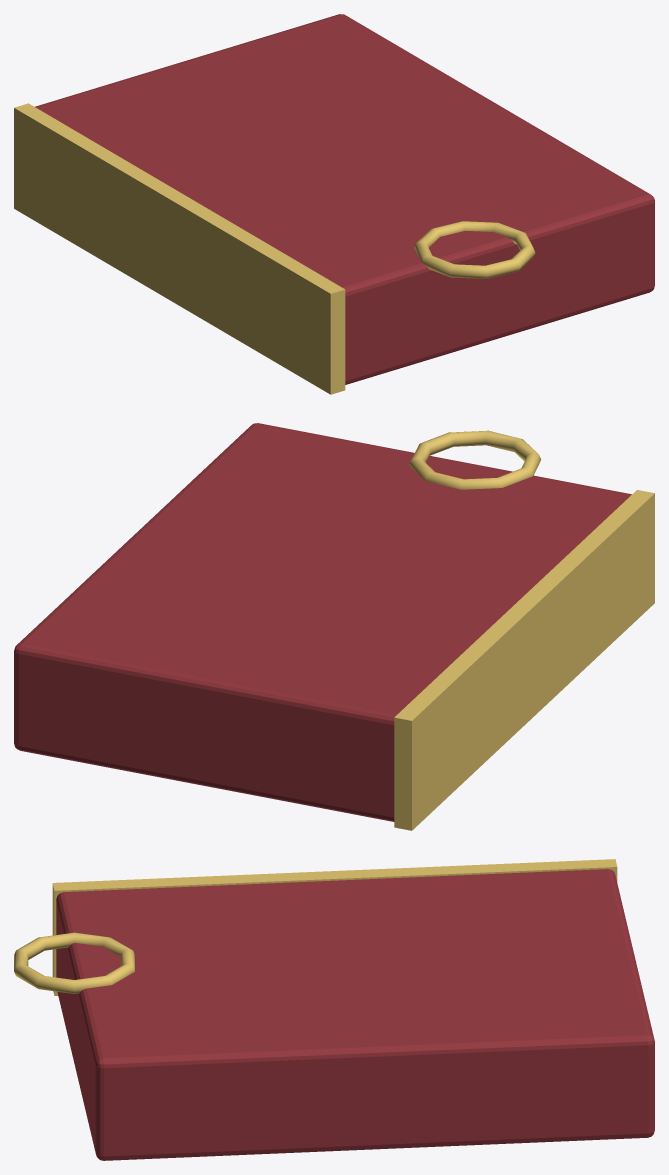
The model's file is grimoire_closed_red.glb.
3 renders of one model, top to bottom at view 1: azimuth 30°, elevation 25°; view 2: azimuth 150°, elevation 25°; view 3: azimuth 270°, elevation 25°, orthographic. The views are drawn at different scales.
Visible parts, largest first — view 1: GD_grimoire_closed_red__m0, GD_grimoire_closed_red__m2; view 2: GD_grimoire_closed_red__m0, GD_grimoire_closed_red__m2; view 3: GD_grimoire_closed_red__m0, GD_grimoire_closed_red__m2.
Boxes of the visible parts, x1,y1,x2,y2 form: GD_grimoire_closed_red__m0: (35, 14, 654, 384); GD_grimoire_closed_red__m2: (14, 103, 535, 394); GD_grimoire_closed_red__m0: (14, 423, 631, 821); GD_grimoire_closed_red__m2: (394, 430, 654, 830); GD_grimoire_closed_red__m0: (56, 869, 654, 1160); GD_grimoire_closed_red__m2: (14, 859, 617, 995).
Size of the model in its own units: 0.2535 by 0.065 by 0.3422.
